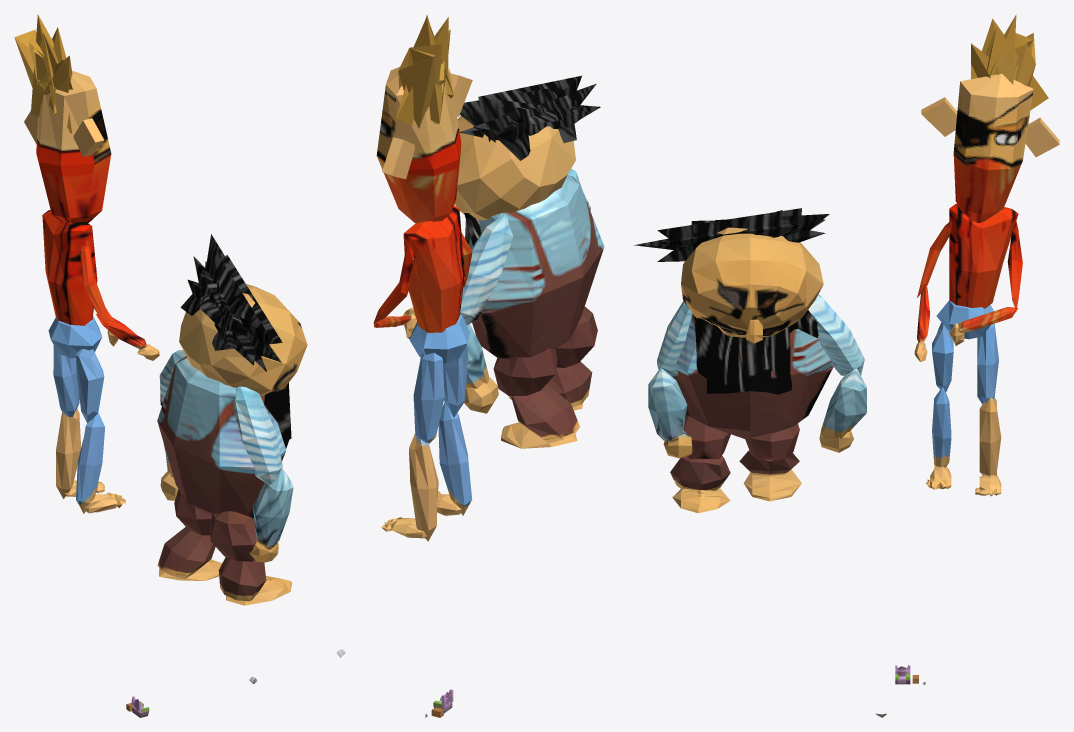
File: Kazale2.glb
The picture shows the model from 3 angles, left to right: view 1: azimuth 30°, elevation 25°; view 2: azimuth 150°, elevation 25°; view 3: azimuth 270°, elevation 25°; orthographic projection. The views are drawn at different scales.
Visible parts, largest first — view 1: Kazale2; view 2: Kazale2; view 3: Kazale2.
Part boxes in pixels (bbox=[...]): Kazale2: bbox=[14, 14, 307, 717]; Kazale2: bbox=[336, 15, 604, 717]; Kazale2: bbox=[634, 14, 1059, 717].
Bounding box in the file's own units: 73.89 × 289 × 172.
1 material, 1 textured.
